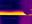Hotspot: (0, 11, 26, 15)
